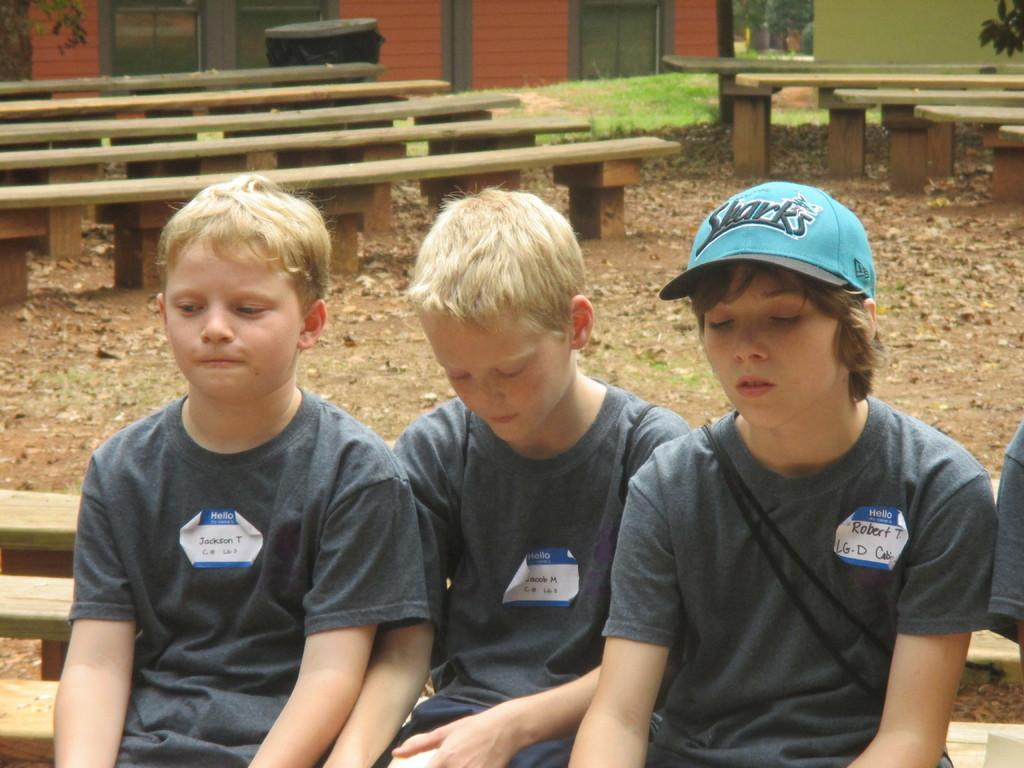Hat: (658, 180, 873, 300)
